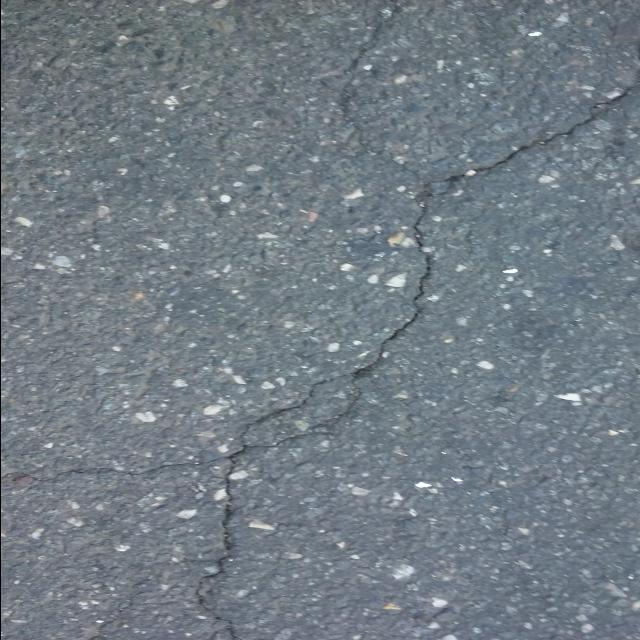Crack: (192, 2, 640, 640)
